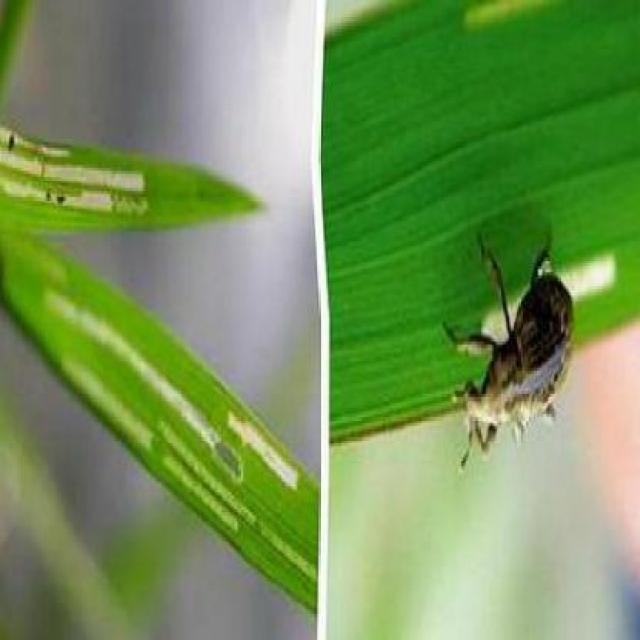rice-bug: (457, 228, 578, 462)
